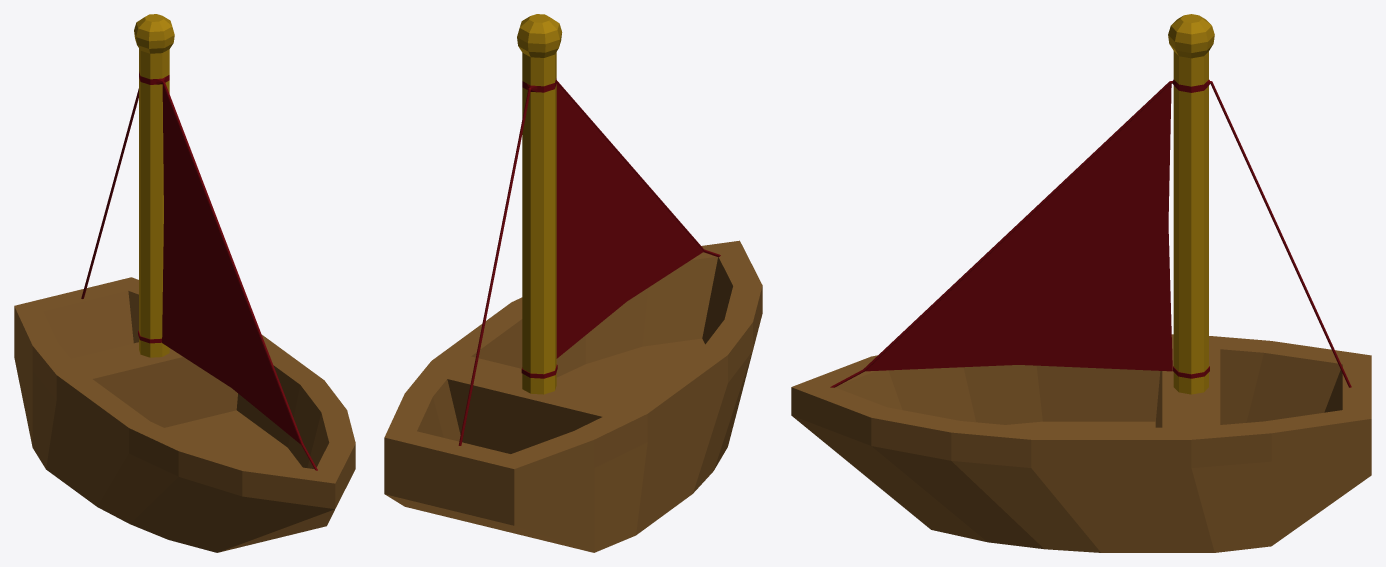
Rendered from boat.fbx.
The picture shows the model from 3 angles, left to right: view 1: azimuth 30°, elevation 25°; view 2: azimuth 150°, elevation 25°; view 3: azimuth 270°, elevation 25°; orthographic projection. The views are drawn at different scales.
Parts seen in each view (by area): view 1: boat; view 2: boat; view 3: boat.
Part boxes in pixels (x1=…): boat: x1=14, y1=14, x2=355, y2=552; boat: x1=384, y1=14, x2=762, y2=552; boat: x1=791, y1=14, x2=1371, y2=552.
Size of the model in its own units: 200 by 426 by 465.
